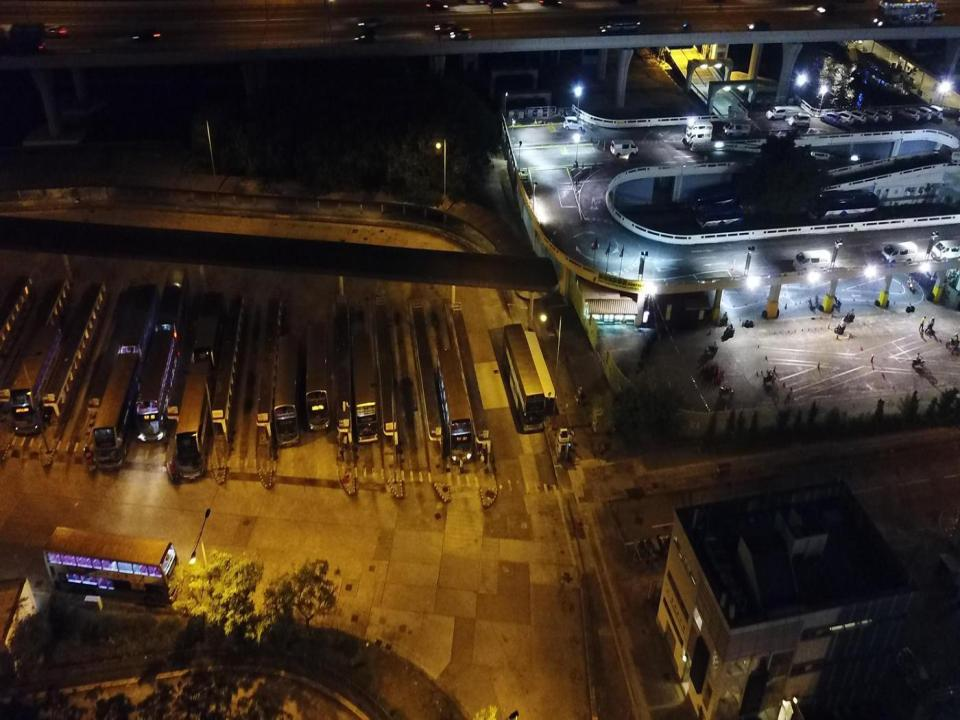bus: (43, 526, 184, 607), (9, 327, 64, 437), (93, 352, 143, 470), (174, 362, 219, 479), (135, 333, 180, 442), (503, 324, 545, 432), (436, 349, 473, 463), (114, 284, 162, 366), (190, 292, 228, 379), (351, 332, 379, 444), (274, 334, 300, 448), (156, 270, 189, 356), (305, 322, 331, 430), (874, 0, 937, 25), (688, 184, 737, 211), (696, 203, 742, 229)
car: (42, 26, 68, 39), (132, 29, 161, 40), (359, 16, 385, 28), (353, 30, 377, 43), (898, 107, 920, 121), (820, 112, 842, 126), (788, 113, 810, 127), (766, 107, 788, 121), (433, 22, 458, 34), (563, 117, 584, 131), (748, 19, 771, 31), (915, 106, 931, 122), (449, 29, 471, 40), (926, 106, 943, 120), (874, 109, 892, 122), (848, 111, 866, 124), (836, 111, 854, 124), (817, 4, 840, 14), (426, 1, 448, 11), (860, 110, 878, 122), (539, 0, 561, 7), (926, 10, 945, 18), (488, 1, 507, 6)
truck: (0, 22, 45, 51)
van: (793, 250, 831, 274), (882, 241, 917, 265), (600, 14, 639, 31), (931, 240, 960, 262), (610, 139, 637, 157), (724, 121, 750, 137), (685, 129, 711, 145), (685, 121, 712, 134)
